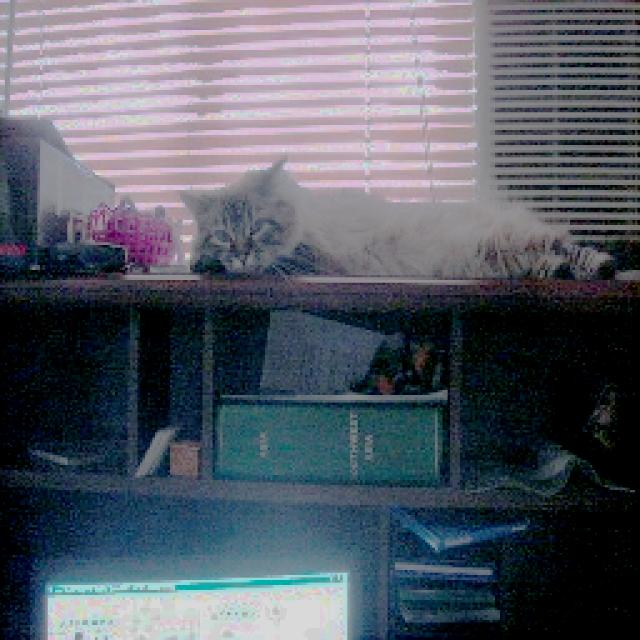cat: (169, 144, 628, 325)
